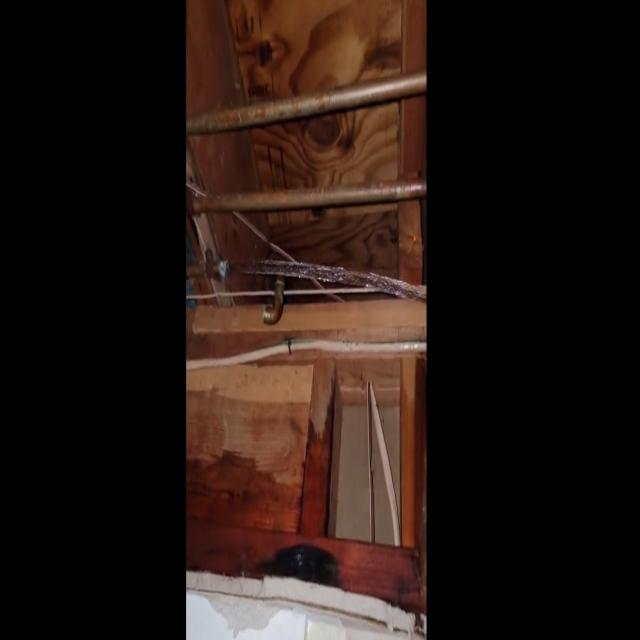leak: (218, 260, 426, 299)
